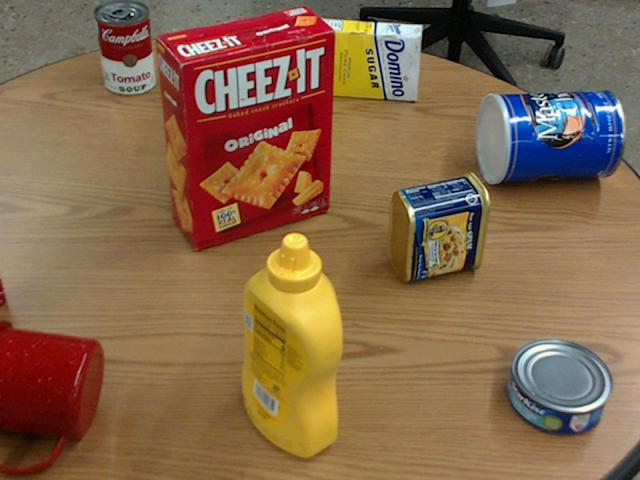cracker_box: (155, 7, 335, 249)
gelatin_box: (0, 275, 5, 303)
master_chef_can: (474, 90, 622, 183)
mug: (0, 318, 101, 469)
mustard_bottle: (242, 232, 340, 456)
potted_meat_can: (388, 170, 490, 281)
sugar_box: (286, 16, 423, 99)
tomato_soup_can: (94, 0, 154, 94)
tuna_fish_can: (506, 337, 609, 433)
